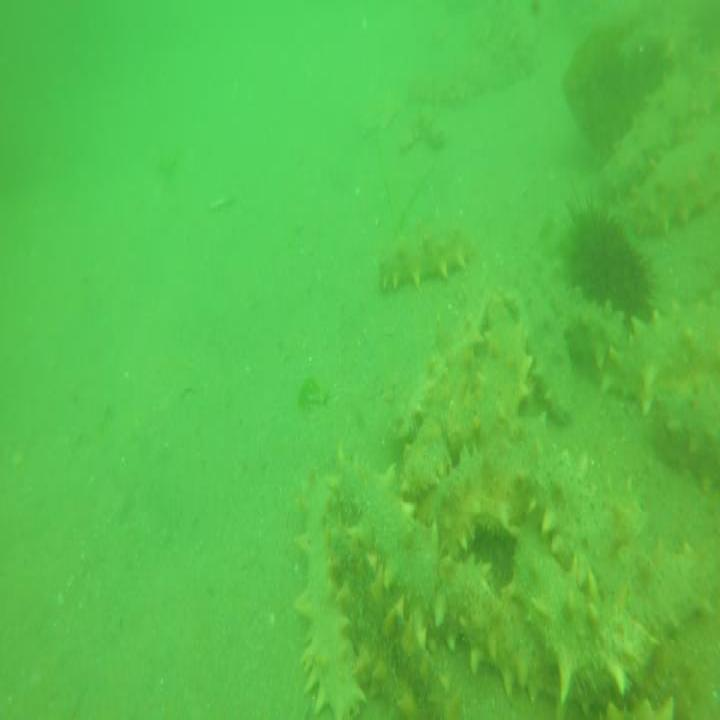echinus: (557, 187, 653, 325)
holothurian: (529, 446, 708, 642), (326, 517, 457, 720), (511, 528, 662, 704), (330, 439, 449, 638), (421, 420, 555, 564), (293, 460, 362, 720), (434, 553, 548, 700), (388, 302, 485, 455), (400, 336, 485, 503), (601, 290, 720, 409), (600, 64, 694, 196), (510, 277, 580, 427), (469, 295, 535, 445), (631, 133, 720, 235), (653, 368, 720, 487), (376, 217, 472, 299), (560, 284, 632, 371)
